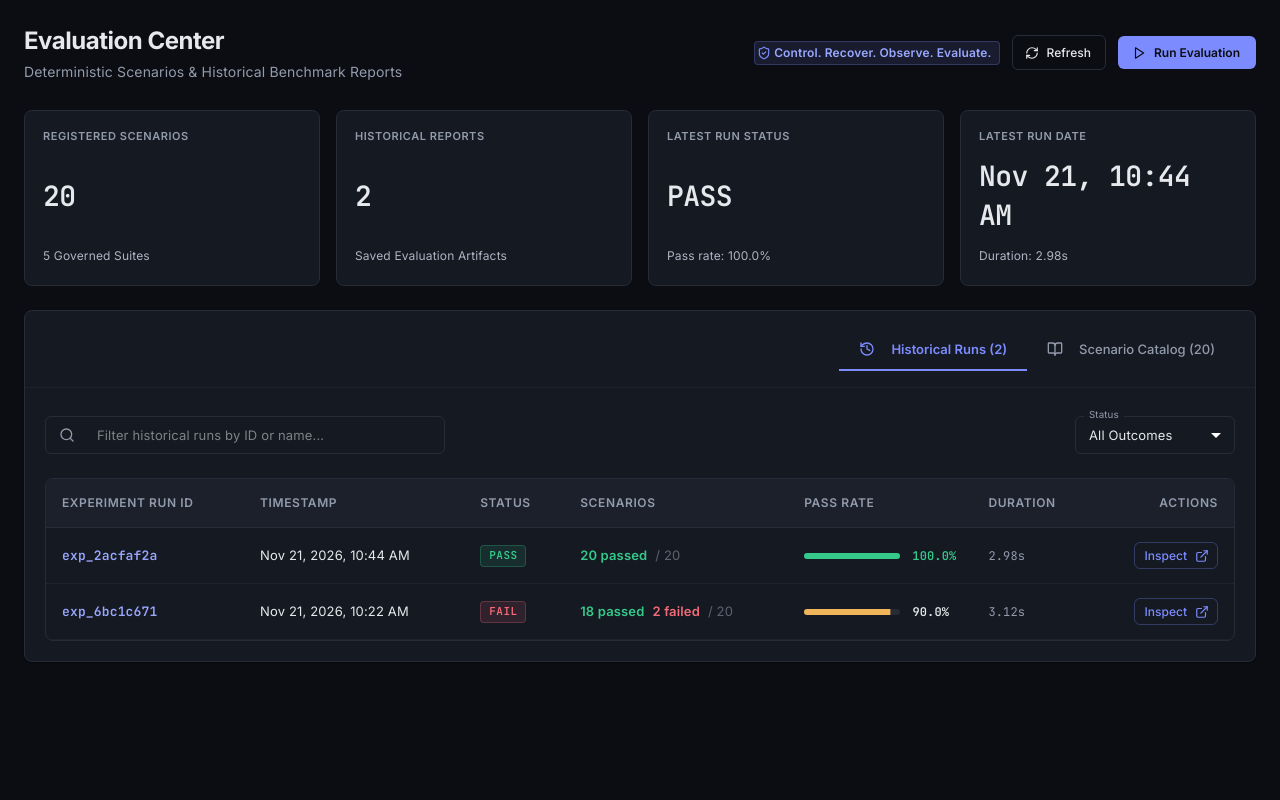
Test case: EvaluationCenterPage Integration (M9.7.2) › navigates to Scenario Catalog tab and displays scenario suites
// Click Scenario Catalog tab
What coordinates should you click on to do the following:
click the tab "Scenario Catalog (20)"
I would click on:
 (1131, 349)
Its box is [1027,327,1235,371].
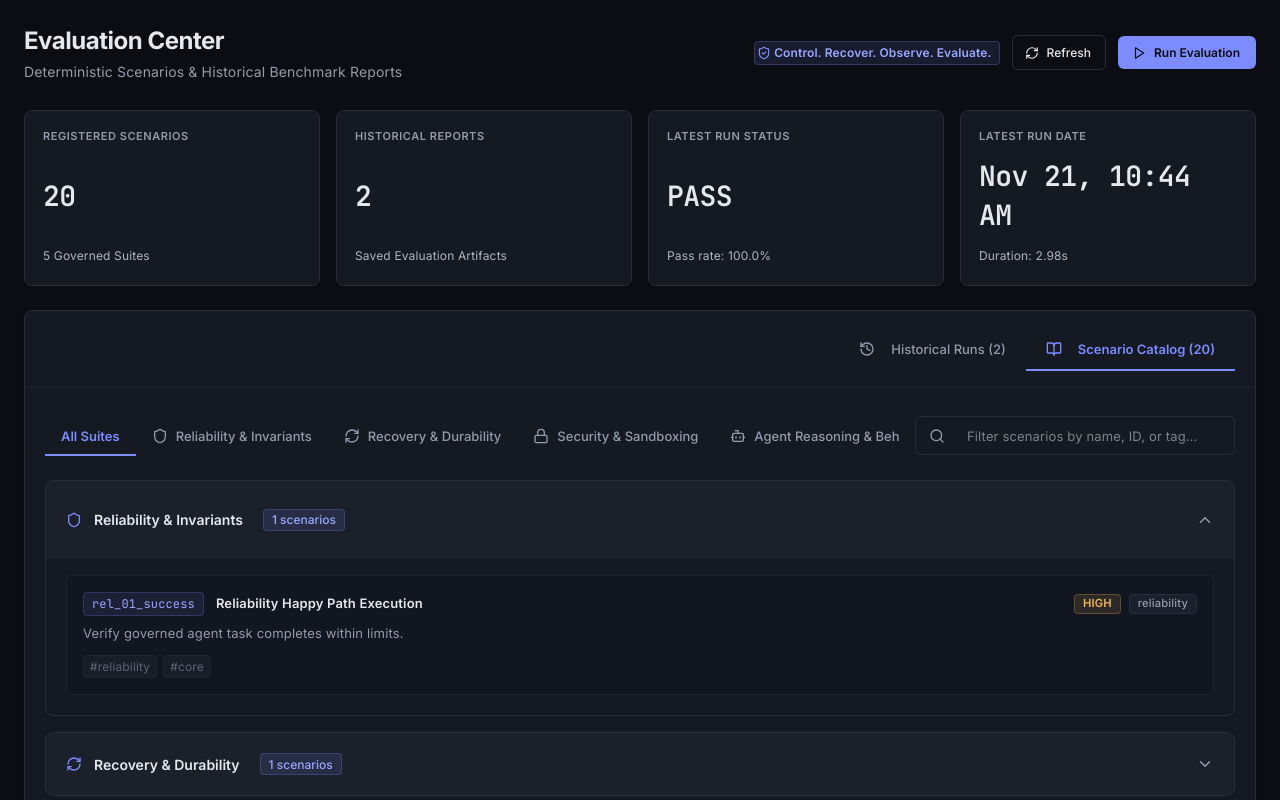
Check: the tab "Reliability & Invariants" is shown, box [136,416,328,456]
Check: the text "rel_01_success" is shown, box [83,592,204,616]
Check: the text "Reliability Happy Path Execution" is shown, box [216,594,423,613]
